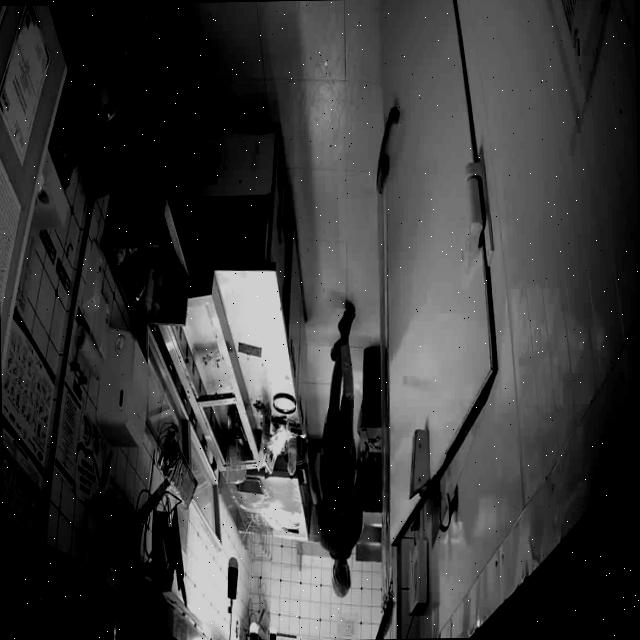helmet: (76, 31, 144, 127)
